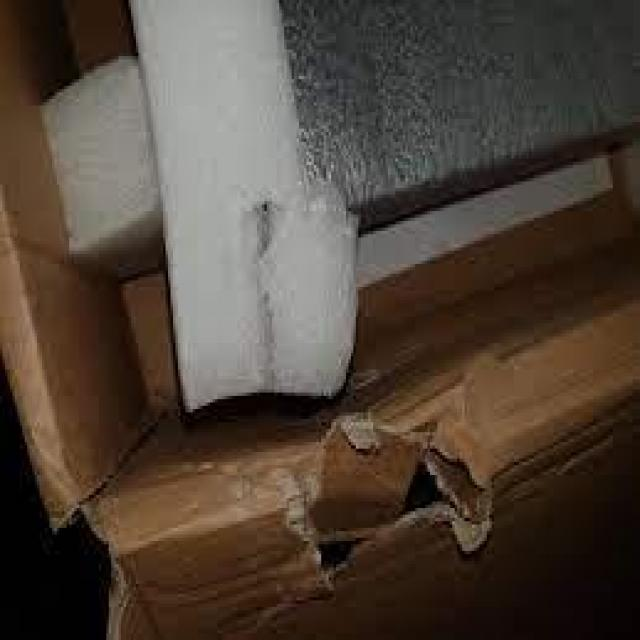damaged: (306, 435, 474, 571)
